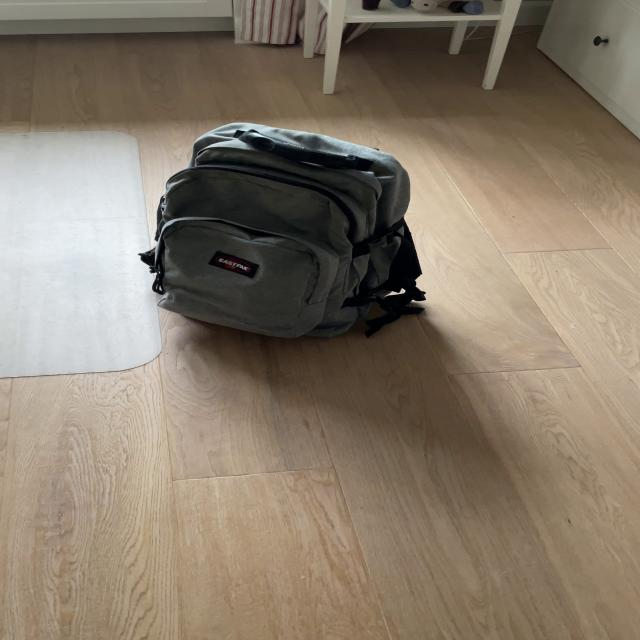backpack: (141, 118, 440, 336)
